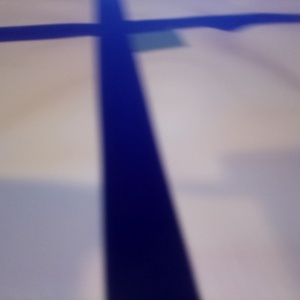bottom_left: (177, 1, 230, 31)
bottom_right: (218, 8, 300, 37)
top_left: (93, 92, 203, 175)
